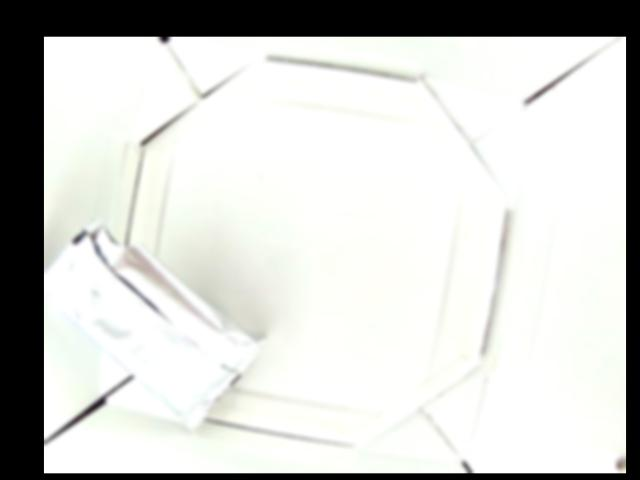Medicine: (43, 222, 267, 432)
